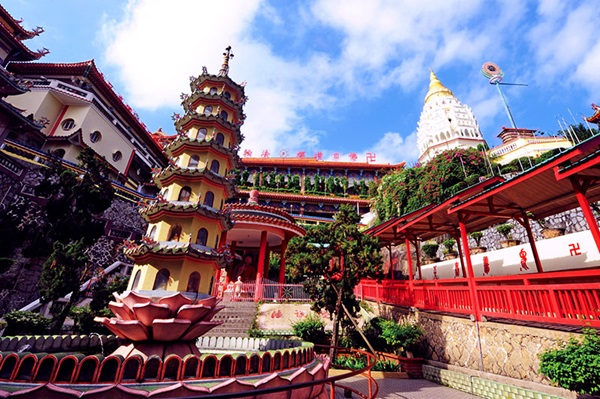Buddhist Temple: (3, 15, 600, 382)
